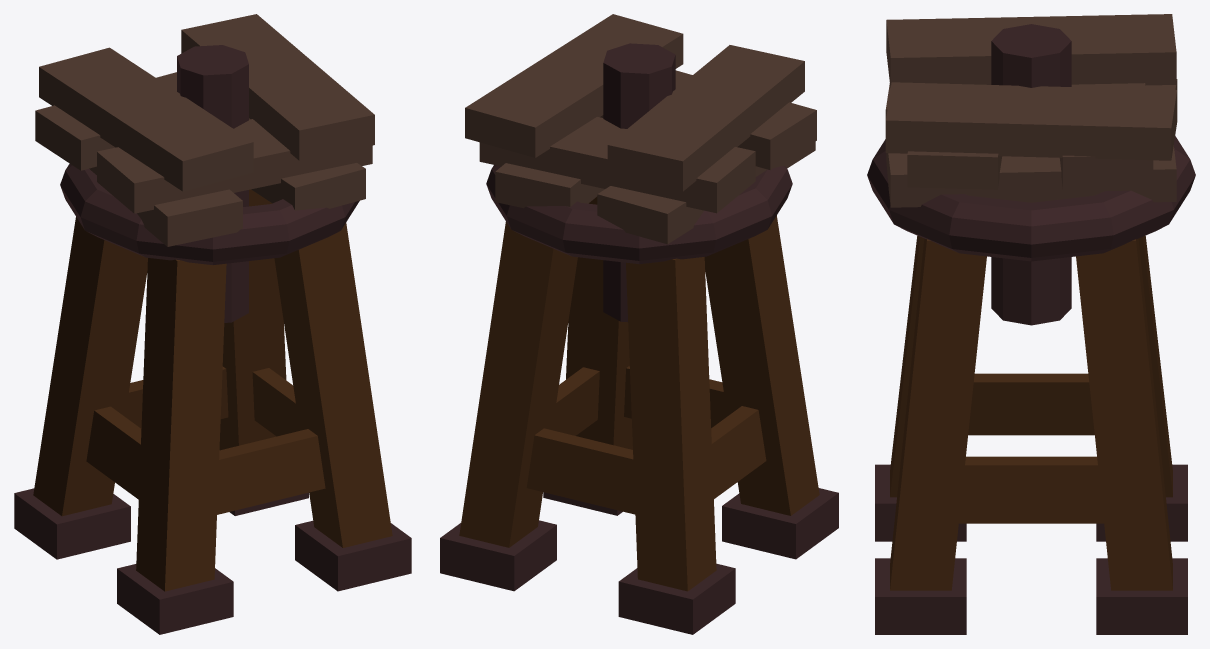
File: TorchStand.fbx
3 views of the same model, side by side, from view 1: azimuth 30°, elevation 25°; view 2: azimuth 150°, elevation 25°; view 3: azimuth 270°, elevation 25° (orthographic). The views are drawn at different scales.
Visible parts, largest first — view 1: Cube.025; view 2: Cube.025; view 3: Cube.025.
Part boxes in pixels (x1,y1,x2,y2): Cube.025: (14, 14, 411, 634); Cube.025: (440, 14, 838, 634); Cube.025: (867, 14, 1195, 634).
Bounding box in the file's own units: 53.35 × 94.47 × 53.35.
